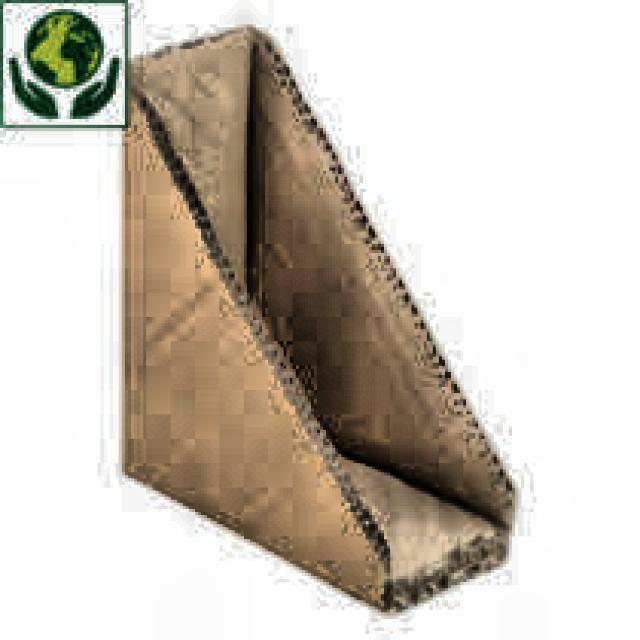cardboard: (119, 21, 515, 616)
